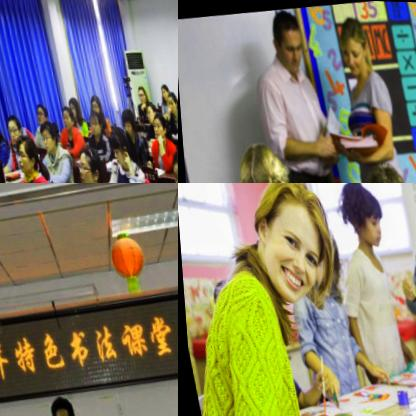head: (247, 183, 334, 301), (340, 183, 385, 249), (229, 137, 292, 183), (266, 8, 304, 73), (335, 18, 374, 75), (102, 119, 132, 169), (69, 139, 101, 183), (8, 131, 39, 176), (357, 161, 416, 183), (33, 115, 57, 149), (41, 392, 74, 416), (115, 104, 137, 139), (160, 141, 178, 183), (144, 107, 164, 139), (1, 112, 22, 142), (83, 108, 101, 139), (55, 104, 72, 133), (83, 90, 100, 116), (29, 99, 45, 125), (140, 97, 156, 122), (162, 90, 177, 113), (64, 94, 78, 118), (132, 83, 146, 103), (157, 81, 168, 101), (172, 106, 178, 140)
